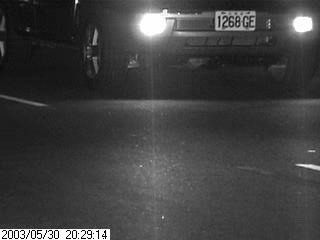plate: (214, 8, 257, 31)
